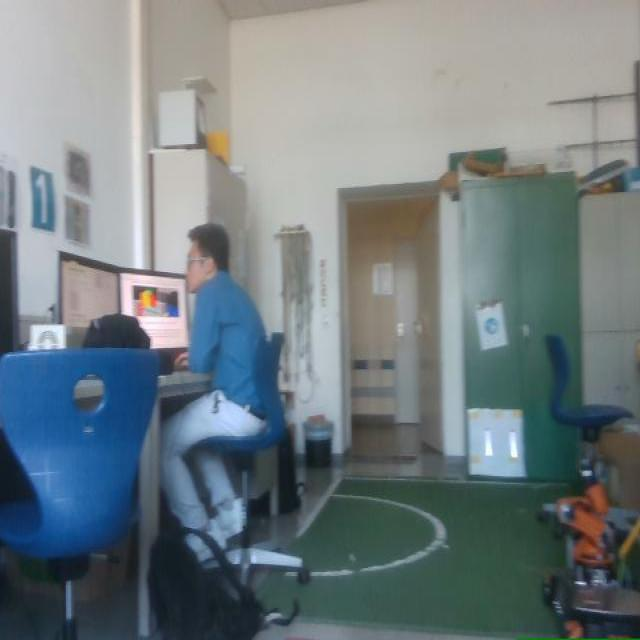humans: (160, 224, 265, 547)
objects: (148, 334, 308, 639), (0, 348, 157, 639), (540, 335, 639, 637), (197, 334, 310, 583), (148, 527, 297, 639), (55, 252, 189, 374), (0, 206, 19, 357), (271, 430, 305, 514), (0, 427, 32, 505), (0, 428, 32, 503), (83, 314, 150, 349), (278, 430, 304, 513), (578, 160, 627, 195), (0, 548, 9, 606)
